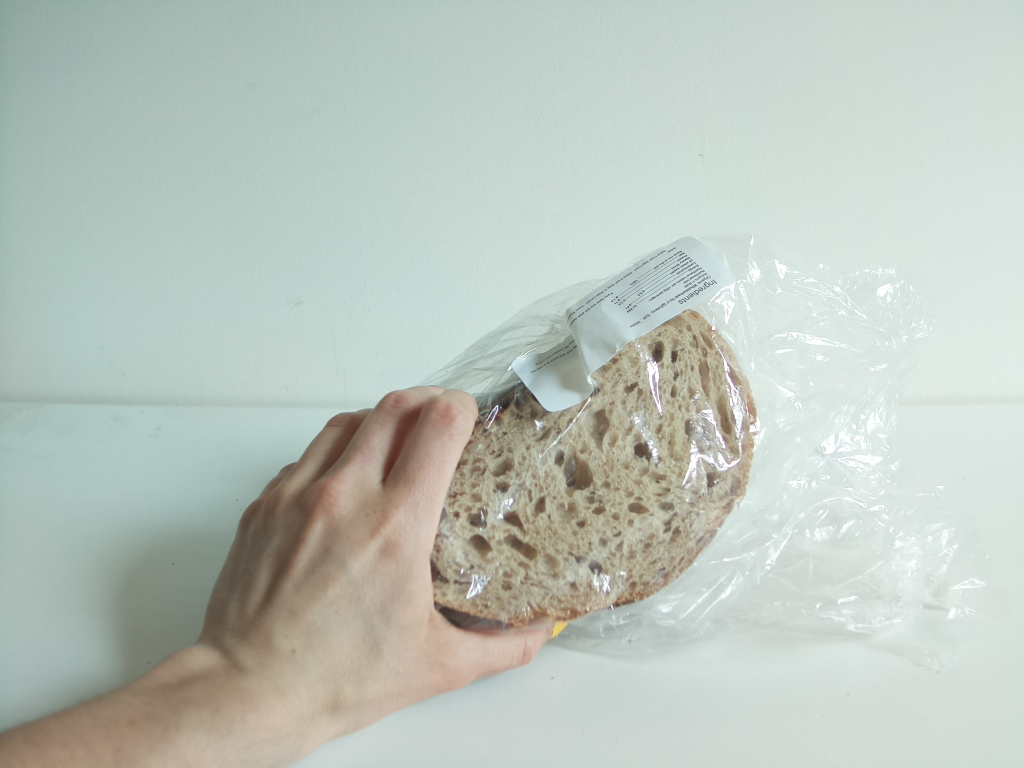bread: (431, 298, 761, 621)
